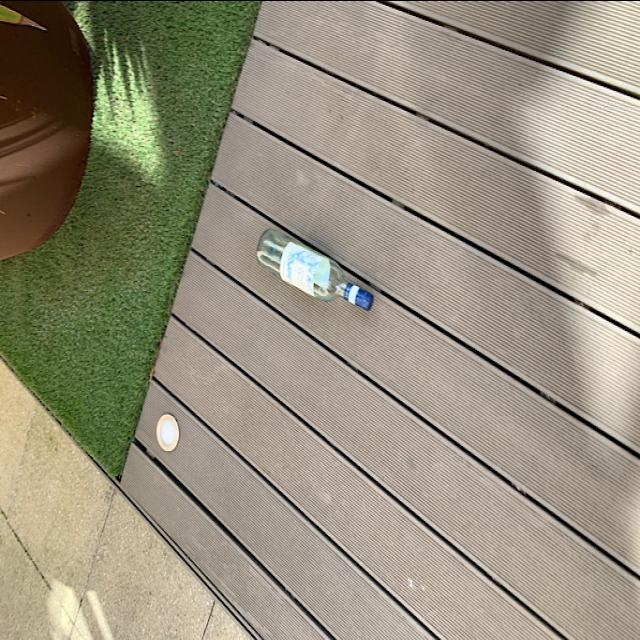litter: (254, 221, 378, 315)
